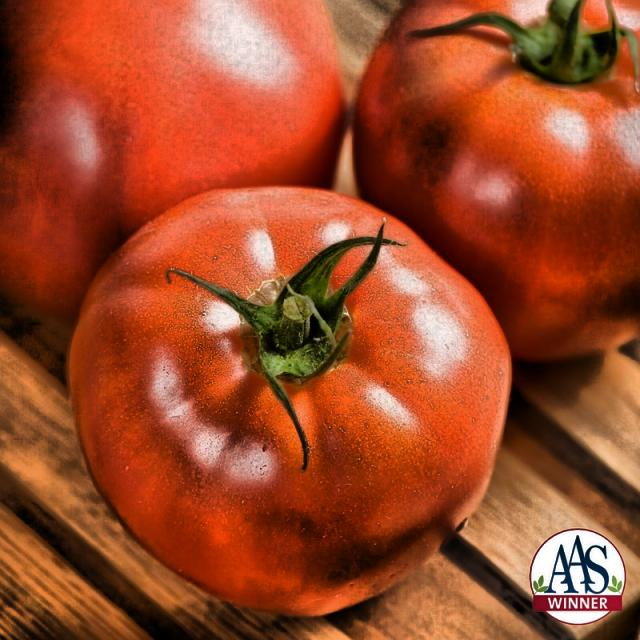tomato: (37, 126, 515, 616)
